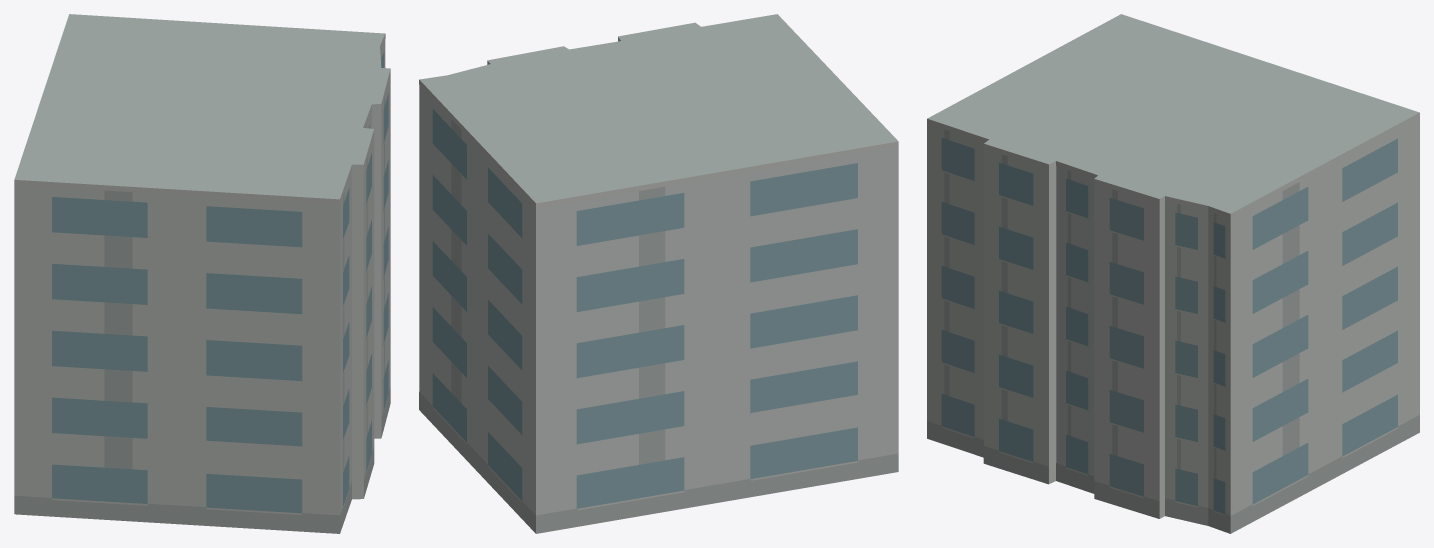
The model's file is survey-upis-32838742.glb.
3 views of the same model, side by side, from view 1: azimuth 30°, elevation 25°; view 2: azimuth 150°, elevation 25°; view 3: azimuth 270°, elevation 25° (orthographic). The views are drawn at different scales.
Parts seen in each view (by area): view 1: survey-upis-32838742.tmp; view 2: survey-upis-32838742.tmp; view 3: survey-upis-32838742.tmp.
Part boxes in pixels (x1,y1,x2,y2): survey-upis-32838742.tmp: [14, 14, 390, 533]; survey-upis-32838742.tmp: [419, 14, 898, 533]; survey-upis-32838742.tmp: [927, 14, 1419, 533].
Size of the model in its own units: 20.7 by 15.45 by 21.57.
